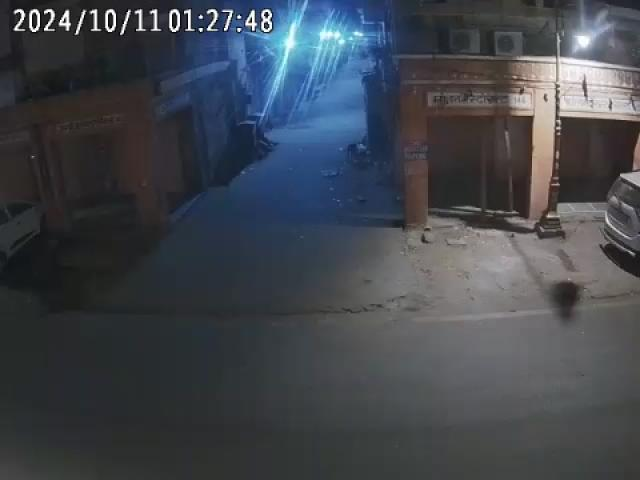car: (593, 159, 640, 271)
